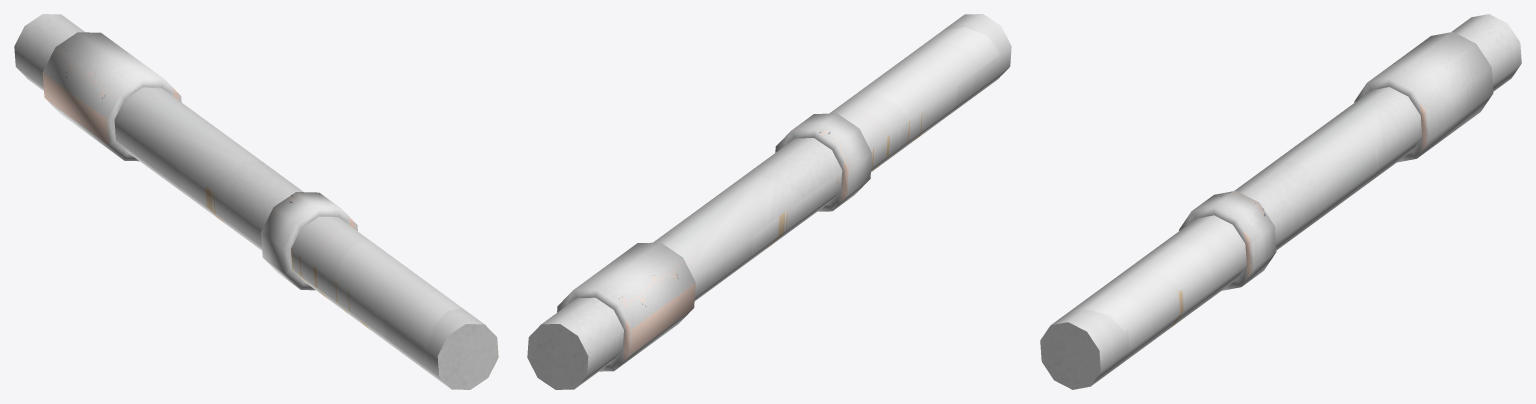
File: Key_Part1.fbx
3 renders of one model, left to right at view 1: azimuth 30°, elevation 25°; view 2: azimuth 150°, elevation 25°; view 3: azimuth 330°, elevation 25°, orthographic.
Visible parts, largest first — view 1: Cylinder003.001; view 2: Cylinder003.001; view 3: Cylinder003.001.
Part boxes in pixels (<box>): Cylinder003.001: <box>14,14,498,389</box>; Cylinder003.001: <box>527,14,1011,389</box>; Cylinder003.001: <box>1040,14,1521,389</box>.
Bounding box in the file's own units: 142 × 150 × 1376.
